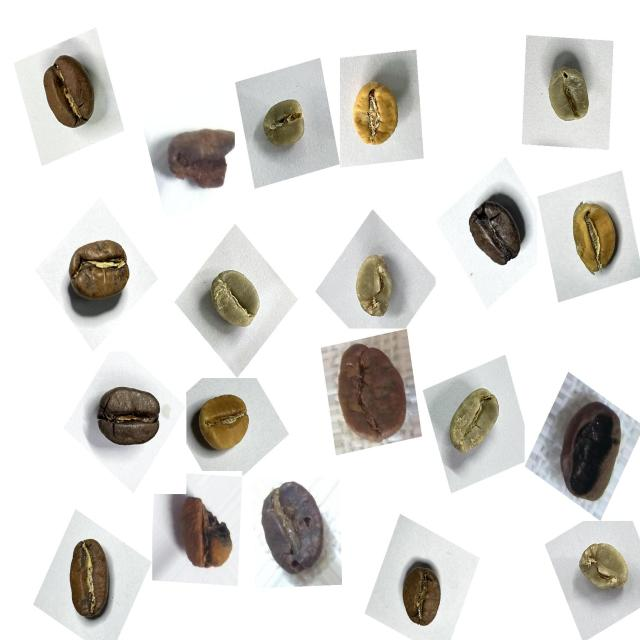bad: (543, 388, 631, 514), (325, 333, 412, 447), (252, 475, 332, 589), (161, 112, 244, 203), (165, 491, 241, 585)
dark: (456, 183, 534, 280)
green: (438, 374, 512, 466), (194, 259, 272, 345), (532, 52, 598, 139), (341, 245, 405, 328), (570, 532, 638, 607), (254, 84, 318, 159)
light: (555, 183, 627, 284), (338, 66, 410, 160), (186, 380, 263, 466)
medium: (50, 525, 126, 632), (58, 226, 143, 318), (89, 372, 170, 462), (32, 51, 108, 142), (390, 556, 452, 637)
